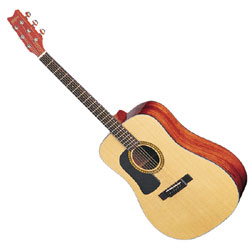guitar: (4, 9, 248, 241)
